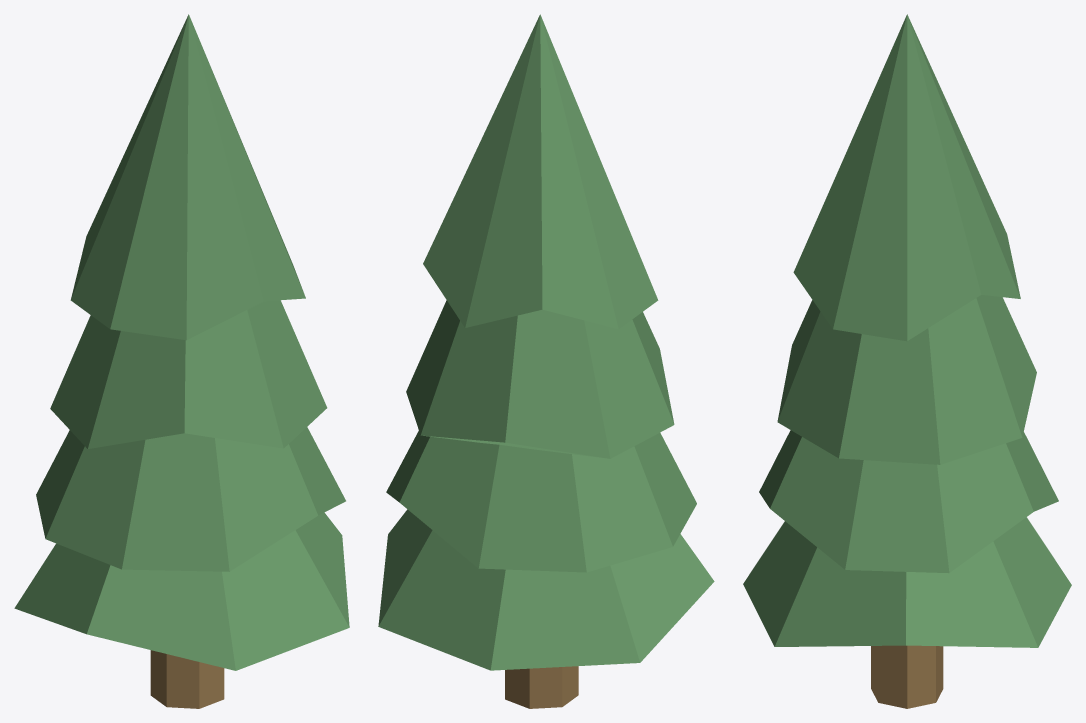
File: arbol4.fbx
3 views of the same model, side by side, from view 1: azimuth 30°, elevation 25°; view 2: azimuth 150°, elevation 25°; view 3: azimuth 270°, elevation 25° (orthographic).
Visible parts, largest first — view 1: pCone4, pCone2, pCone1, pCone3, pCylinder1; view 2: pCone4, pCone1, pCone2, pCone3, pCylinder1; view 3: pCone4, pCone3, pCone1, pCone2, pCylinder1.
Boxes of the visible parts, bbox=[...] form: pCone4: bbox=[70, 14, 305, 340]; pCone2: bbox=[36, 427, 345, 571]; pCone1: bbox=[14, 512, 349, 670]; pCone3: bbox=[50, 300, 327, 448]; pCylinder1: bbox=[150, 650, 224, 708]; pCone4: bbox=[423, 14, 658, 329]; pCone1: bbox=[378, 509, 714, 670]; pCone2: bbox=[386, 431, 696, 572]; pCone3: bbox=[406, 300, 674, 458]; pCylinder1: bbox=[505, 666, 578, 708]; pCone4: bbox=[793, 14, 1020, 341]; pCone3: bbox=[777, 295, 1036, 464]; pCone1: bbox=[743, 517, 1071, 647]; pCone2: bbox=[759, 430, 1058, 573]; pCylinder1: bbox=[871, 645, 943, 708].
Bounding box in the file's own units: 6.27 × 14 × 6.15.
